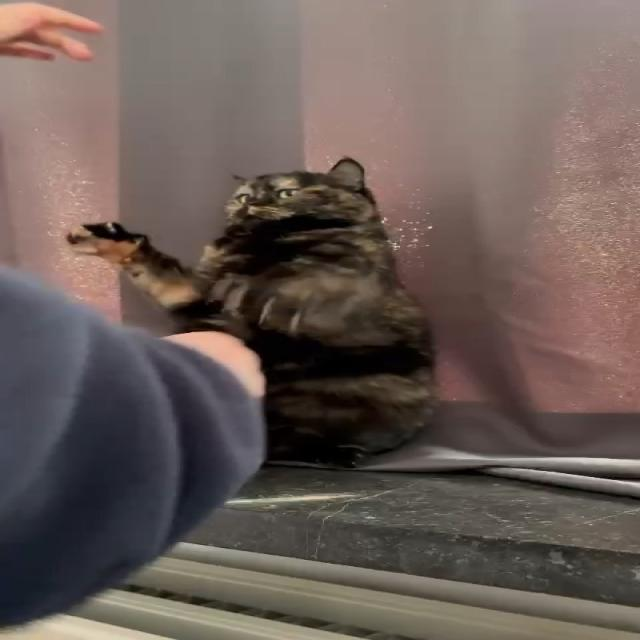authorized: (64, 156, 439, 468)
